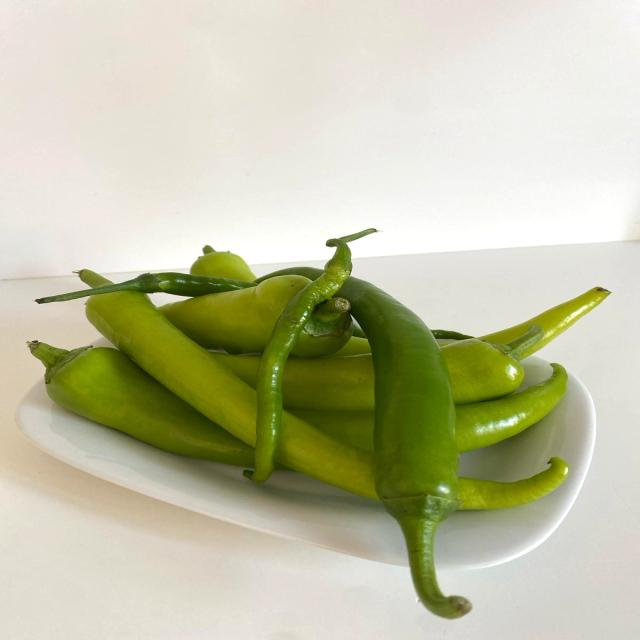green pepper: (71, 268, 576, 504)
